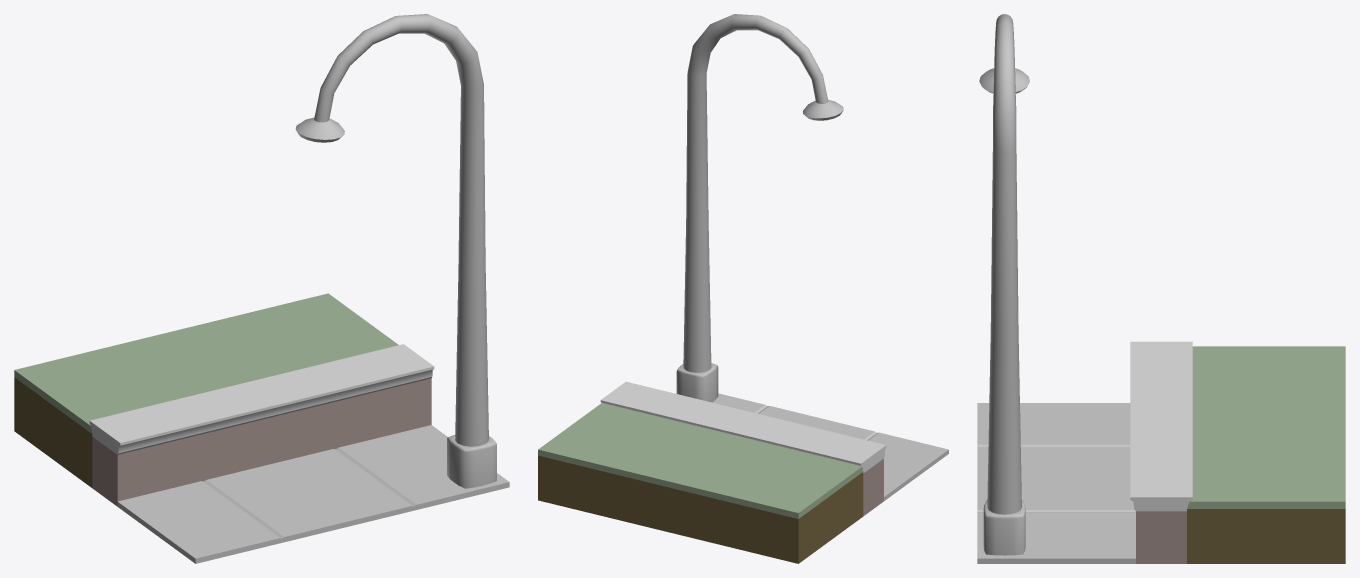
File: HumptyEnvironment.fbx
3 renders of one model, left to right at view 1: azimuth 30°, elevation 25°; view 2: azimuth 150°, elevation 25°; view 3: azimuth 270°, elevation 25°, orthographic. The views are drawn at different scales.
Visible parts, largest first — view 1: Wall, Sidewalk, Grass, LgihtPole, Dirt; view 2: Grass, Dirt, LgihtPole, Wall, Sidewalk; view 3: Grass, Sidewalk, LgihtPole, Wall, Dirt.
Boxes of the visible parts, x1,y1,x2,y2 form: Wall: (89,344,434,506); Sidewalk: (117,425,509,563); Grass: (14,293,398,433); LgihtPole: (295,14,496,488); Dirt: (14,377,92,487); Grass: (538,403,863,518); Dirt: (538,455,863,563); LgihtPole: (676,14,843,402); Wall: (600,381,886,516); Sidewalk: (712,393,948,500); Grass: (1187,346,1345,508); Sidewalk: (977,403,1135,563); LgihtPole: (979,14,1029,555); Wall: (1130,341,1192,563); Dirt: (1187,509,1345,563).
Bounding box in the file's own units: 500 × 738 × 500.
